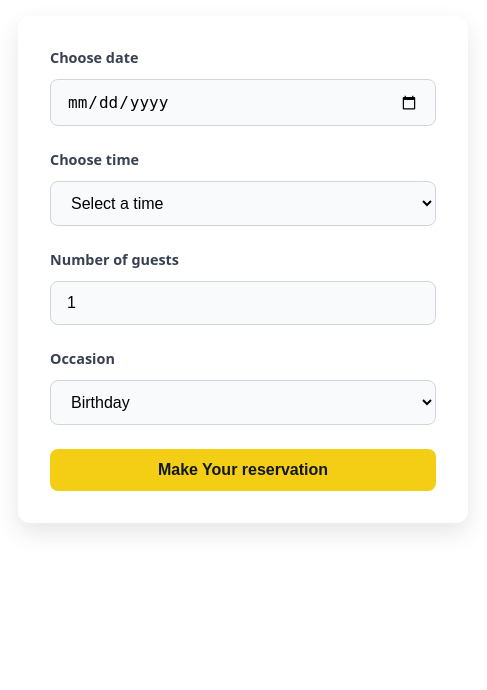
Test: Invalid form states › shows a whole-number error when the number of guests is not an integer
Note: Enter a value over 1 so the .min check passes and .integer is what fails
Type "1.5" into the number field labelled "Number of guests" at (243, 303), box [50,281,436,325]
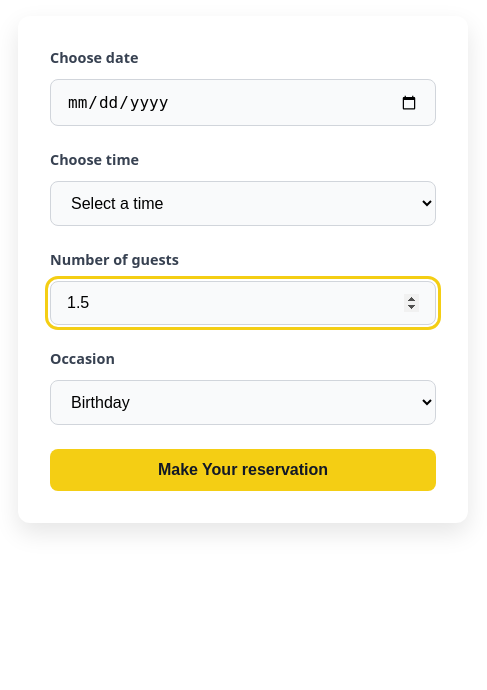
Submit the form named "Make Your reservation"
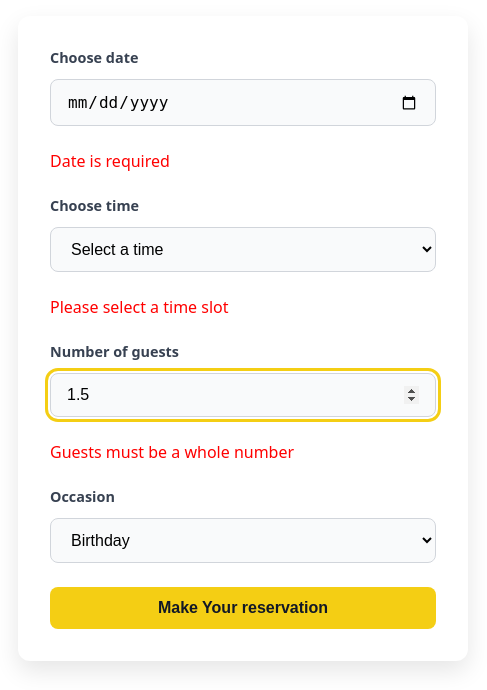
Expected: the text "Guests must be a whole number" is shown, [50,441,294,463]
